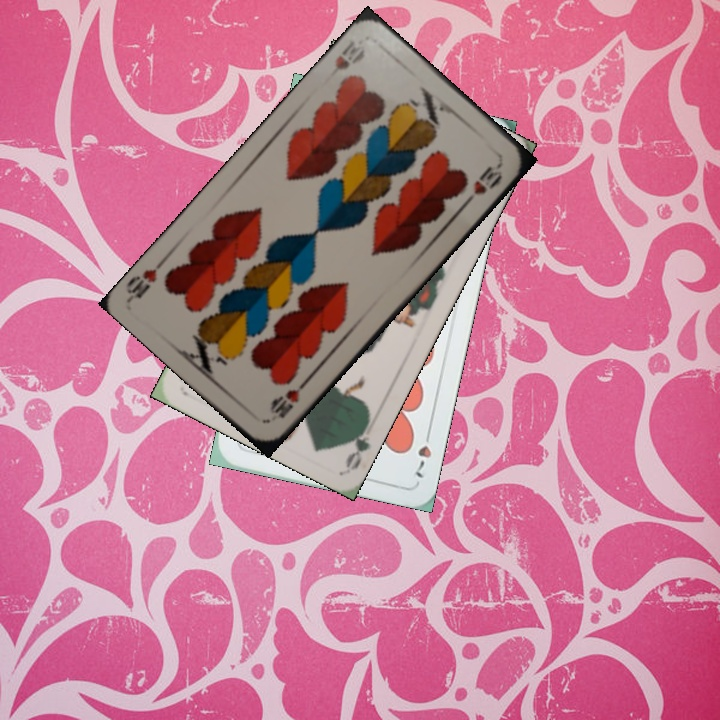GO: (341, 412, 373, 472)
H10: (266, 376, 311, 421), (325, 36, 368, 80)
H7: (410, 424, 434, 481)
